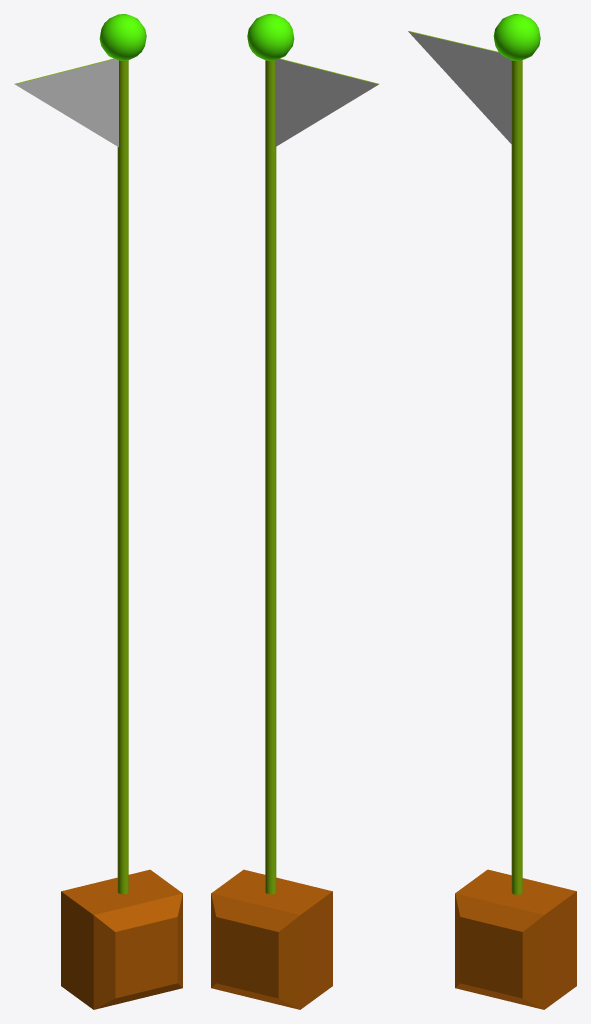
The picture shows the model from 3 angles, left to right: view 1: azimuth 30°, elevation 25°; view 2: azimuth 150°, elevation 25°; view 3: azimuth 330°, elevation 25°; orthographic projection.
Visible parts, largest first — view 1: Base_21 - Default_0, Pole, Flag; view 2: Base_21 - Default_0, Pole, Flag; view 3: Base_21 - Default_0, Pole, Flag.
Boxes of the visible parts, x1,y1,x2,y2 form: Base_21 - Default_0: (61, 869, 182, 1009); Pole: (99, 14, 146, 894); Flag: (14, 58, 118, 147); Base_21 - Default_0: (211, 869, 332, 1009); Pole: (247, 14, 294, 894); Flag: (275, 58, 379, 147); Base_21 - Default_0: (455, 869, 576, 1009); Pole: (493, 14, 540, 894); Flag: (408, 31, 511, 143).
Size of the model in its own units: 1428 by 8716 by 798.
